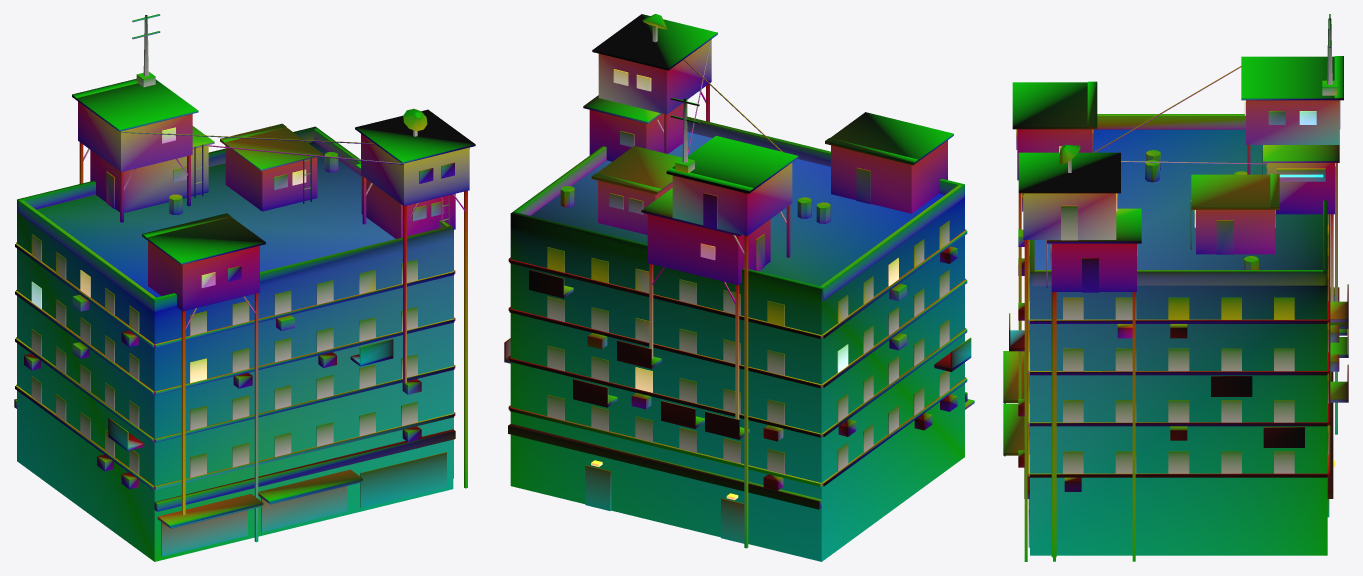
File: Slum_Stack_V1.fbx
3 renders of one model, left to right at view 1: azimuth 30°, elevation 25°; view 2: azimuth 150°, elevation 25°; view 3: azimuth 270°, elevation 25°, orthographic. The views are drawn at different scales.
Parts seen in each view (by area): view 1: Slum_Stack_V1_LOD0; view 2: Slum_Stack_V1_LOD0; view 3: Slum_Stack_V1_LOD0.
Boxes of the visible parts, box(x1,y1,x2,y2) form: Slum_Stack_V1_LOD0: box(14, 14, 475, 561); Slum_Stack_V1_LOD0: box(504, 14, 974, 561); Slum_Stack_V1_LOD0: box(1003, 14, 1348, 561).
Size of what is drawn, in the model's own units: 22.03 by 26.2 by 18.3.
